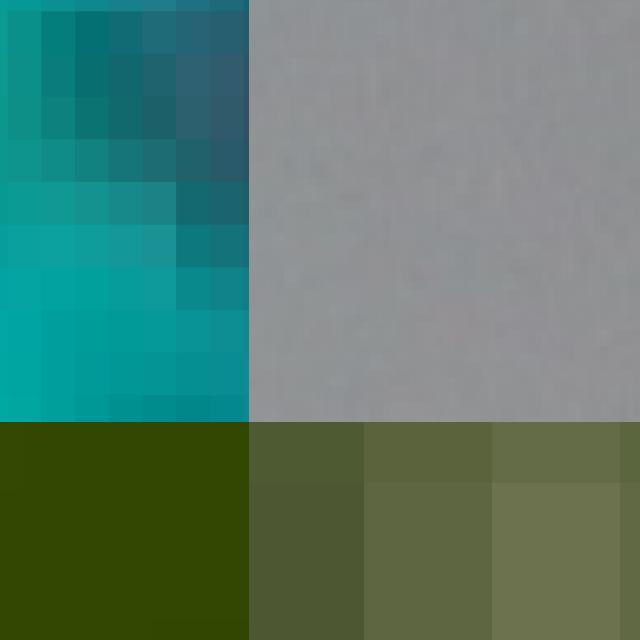fish: (0, 0, 249, 422)
